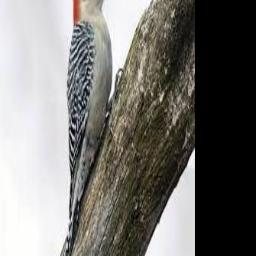Woodpecker: (57, 0, 121, 256)
